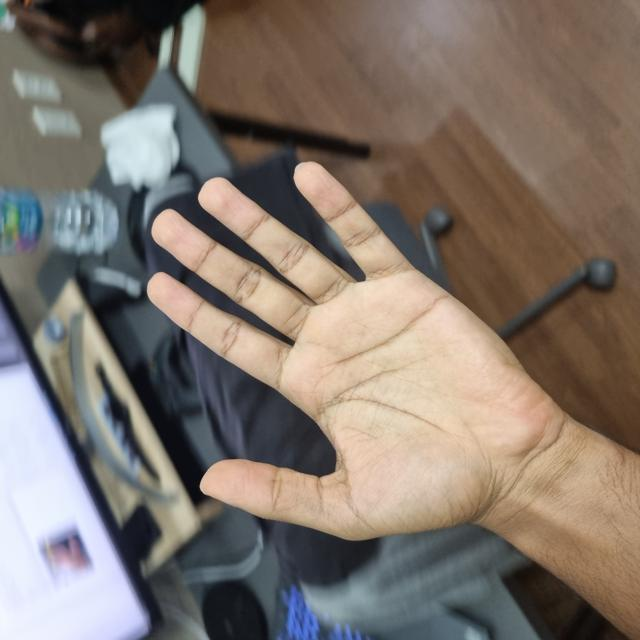Paper: (99, 205, 363, 547)
